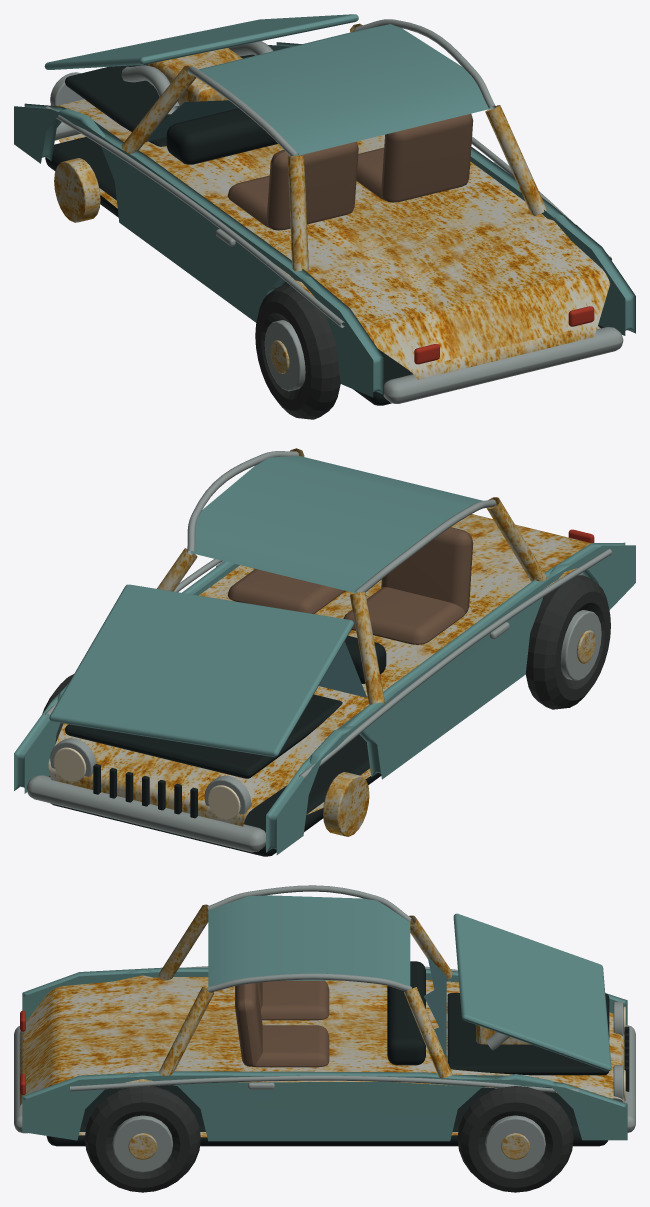
File: ashen_coupe_wreck.glb
The picture shows the model from 3 angles, top to bottom: view 1: azimuth 30°, elevation 25°; view 2: azimuth 150°, elevation 25°; view 3: azimuth 270°, elevation 25°; orthographic projection. The views are drawn at different scales.
Parts seen in each view (by area): view 1: Oxidised steel - Poly Haven, Faded petrol blue enamel, Tarnished chrome, Torn brown upholstery, Recesses, Dry rubber, Remaining dusty glass, Tail light; view 2: Faded petrol blue enamel, Oxidised steel - Poly Haven, Tarnished chrome, Torn brown upholstery, Recesses, Dry rubber, Aged ivory enamel, Remaining dusty glass; view 3: Faded petrol blue enamel, Oxidised steel - Poly Haven, Dry rubber, Tarnished chrome, Recesses, Torn brown upholstery, Remaining dusty glass.
Boxes of the visible parts, left/top/right/bottom form: Oxidised steel - Poly Haven: left=52, top=23, right=610, bottom=379; Faded petrol blue enamel: left=14, top=14, right=635, bottom=397; Tarnished chrome: left=45, top=19, right=623, bottom=403; Torn brown upholstery: left=227, top=113, right=473, bottom=230; Recesses: left=45, top=47, right=412, bottom=405; Dry rubber: left=255, top=225, right=604, bottom=419; Remaining dusty glass: left=146, top=100, right=238, bottom=141; Tail light: left=414, top=306, right=594, bottom=364; Faded petrol blue enamel: left=14, top=456, right=635, bottom=854; Oxidised steel - Poly Haven: left=48, top=448, right=595, bottom=836; Tarnished chrome: left=26, top=451, right=611, bottom=852; Torn brown upholstery: left=227, top=527, right=473, bottom=644; Recesses: left=50, top=635, right=386, bottom=856; Dry rubber: left=42, top=575, right=610, bottom=776; Aged ivory enamel: left=53, top=747, right=240, bottom=819; Remaining dusty glass: left=319, top=641, right=366, bottom=697; Faded petrol blue enamel: left=22, top=895, right=627, bottom=1141; Oxidised steel - Poly Haven: left=19, top=904, right=624, bottom=1159; Dry rubber: left=84, top=1086, right=573, bottom=1192; Tarnished chrome: left=14, top=885, right=635, bottom=1172; Recesses: left=46, top=961, right=629, bottom=1146; Torn brown upholstery: left=235, top=980, right=329, bottom=1067; Remaining dusty glass: left=423, top=956, right=446, bottom=1058.
Size of the model in its own units: 2.49 by 1.88 by 5.14.
Materials: 9 (1 with a texture image).
